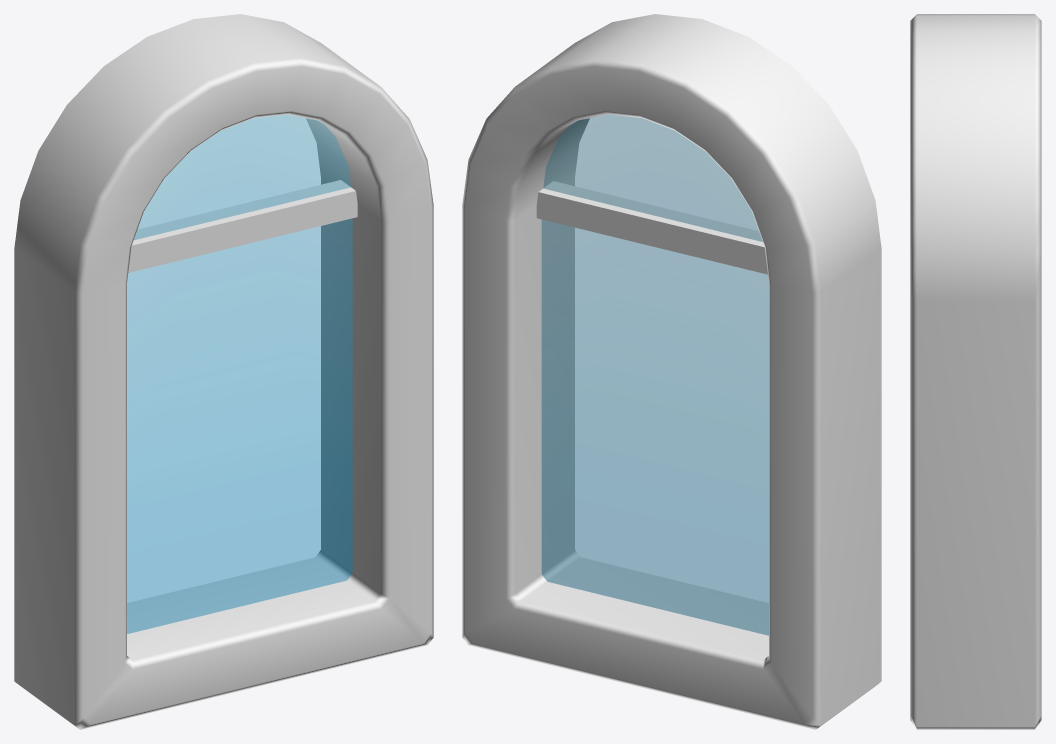
File: Window_White_18.glb
The picture shows the model from 3 angles, left to right: view 1: azimuth 30°, elevation 25°; view 2: azimuth 150°, elevation 25°; view 3: azimuth 270°, elevation 25°; orthographic projection.
Parts seen in each view (by area): view 1: Window_White_18; view 2: Window_White_18; view 3: Window_White_18.
Boxes of the visible parts, left/top/right/bottom form: Window_White_18: left=14, top=14, right=433, bottom=729; Window_White_18: left=462, top=14, right=881, bottom=729; Window_White_18: left=910, top=14, right=1041, bottom=729.
Bounding box in the file's own units: 1.24 × 2.07 × 0.4.
Materials: 2 (2 with a texture image).
